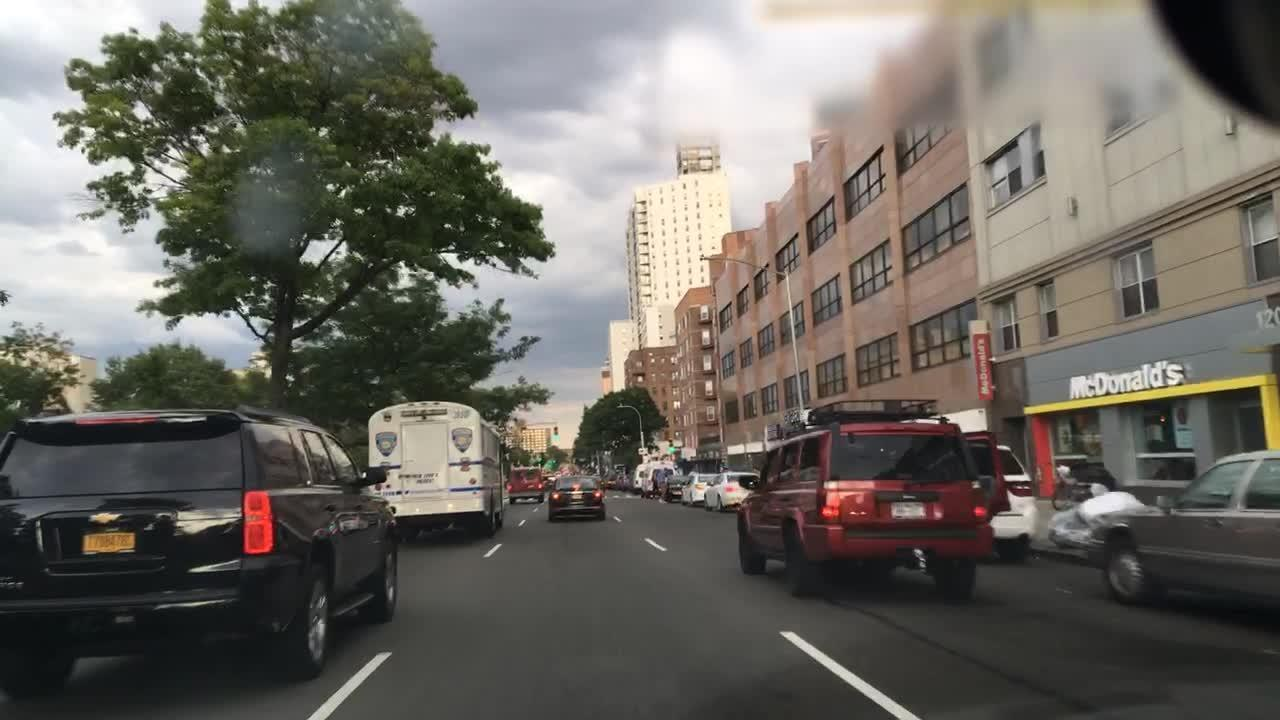chevrolet: (69, 497, 142, 529)
